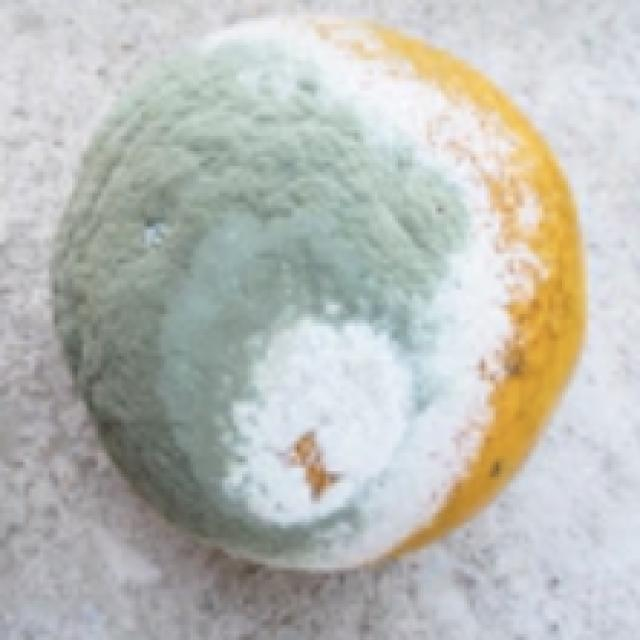sangat_busuk: (50, 13, 587, 575)
